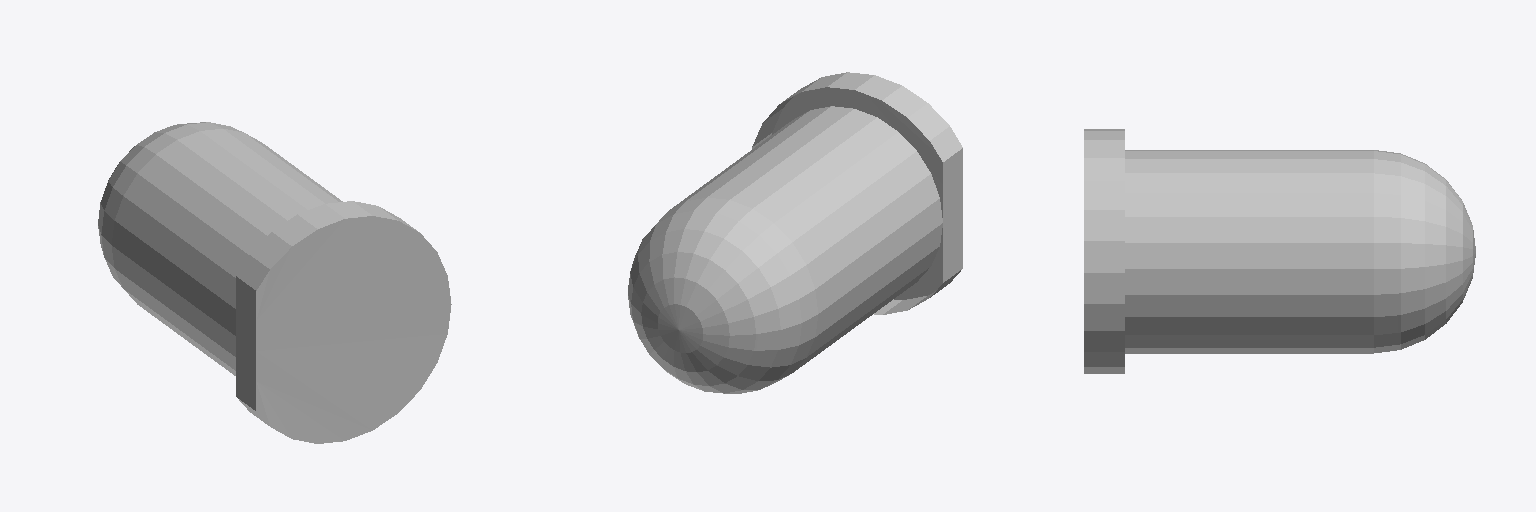
3 renders of one model, left to right at view 1: azimuth 30°, elevation 25°; view 2: azimuth 150°, elevation 25°; view 3: azimuth 270°, elevation 25°, orthographic.
Bounding box in the file's own units: 5.5 × 6 × 9.6.
Materials: 1 (1 with a texture image).